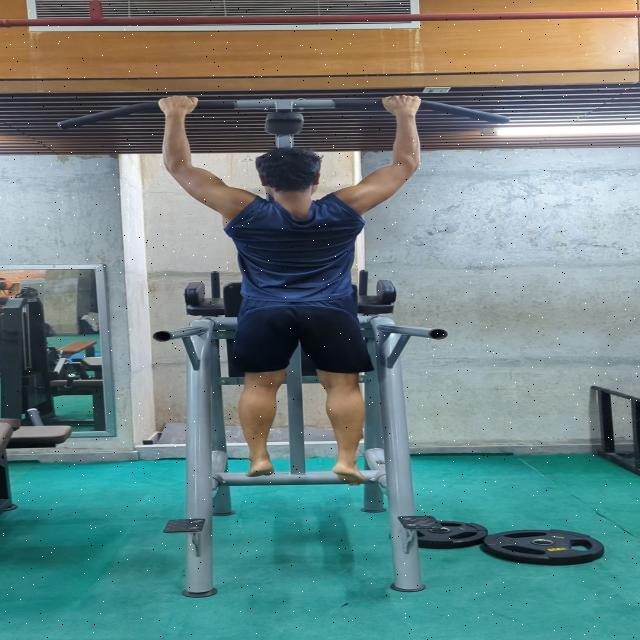Normal_PullUps: (149, 83, 433, 495)
